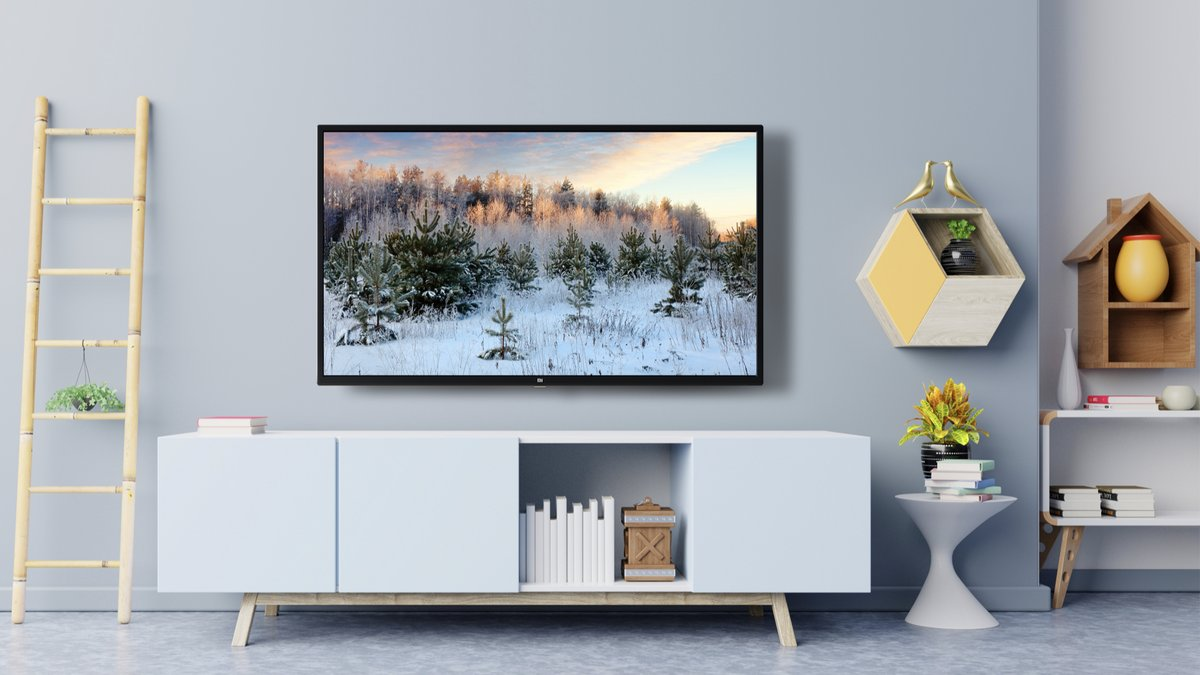buku: (514, 492, 621, 583), (924, 462, 1003, 502), (1105, 481, 1159, 528), (1091, 389, 1164, 420), (1054, 481, 1104, 520), (197, 411, 270, 433)
lukisan: (314, 120, 770, 388)
meja: (159, 428, 873, 608)
tanaman: (897, 394, 996, 458), (936, 213, 987, 268), (59, 367, 123, 408)
